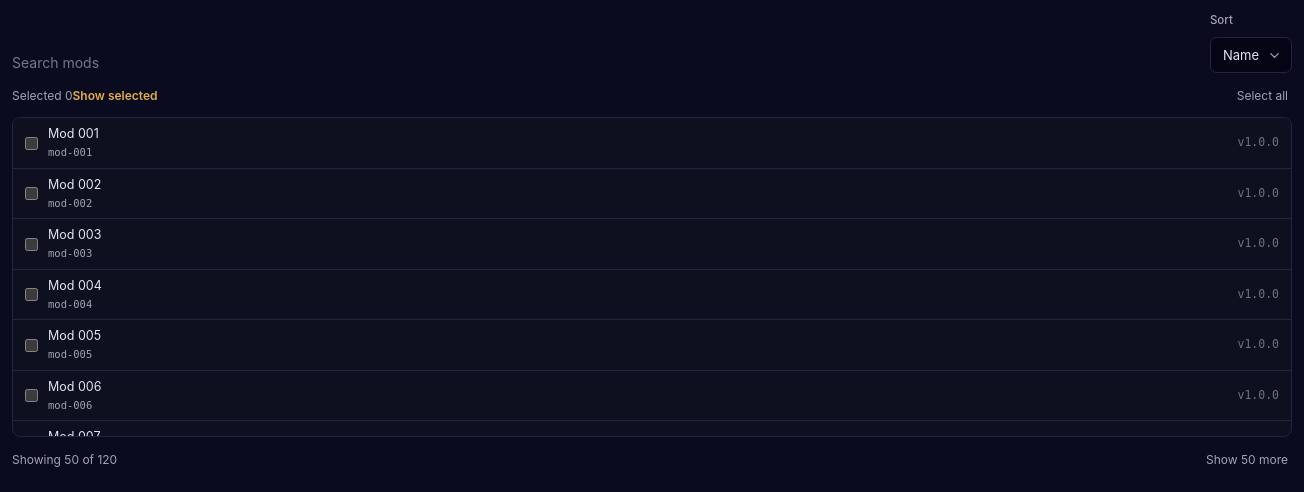
<ModMultiSelect> windowing › changing the search resets paging back to the first page
Expand to the second page first.
Click the button "Show 50 more" at (1247, 460), box x1=1202 y1=449 x2=1292 y2=471
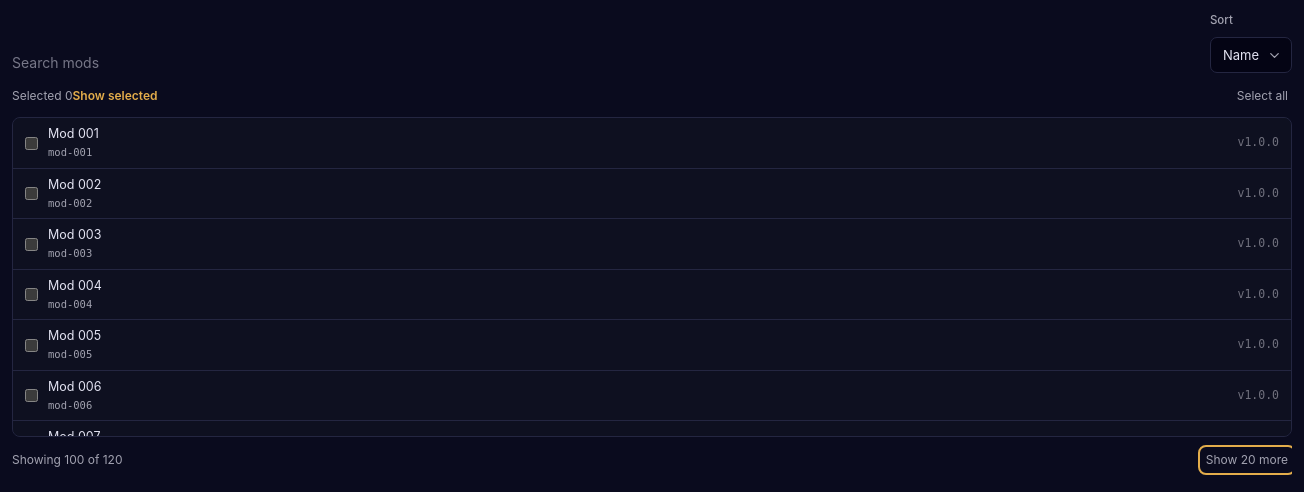
A search narrows to 99 matches AND snaps the page back to the first 50.
Type "Mod 0" into the field labelled "Search mods" at (606, 63), box x1=12 y1=52 x2=1200 y2=73
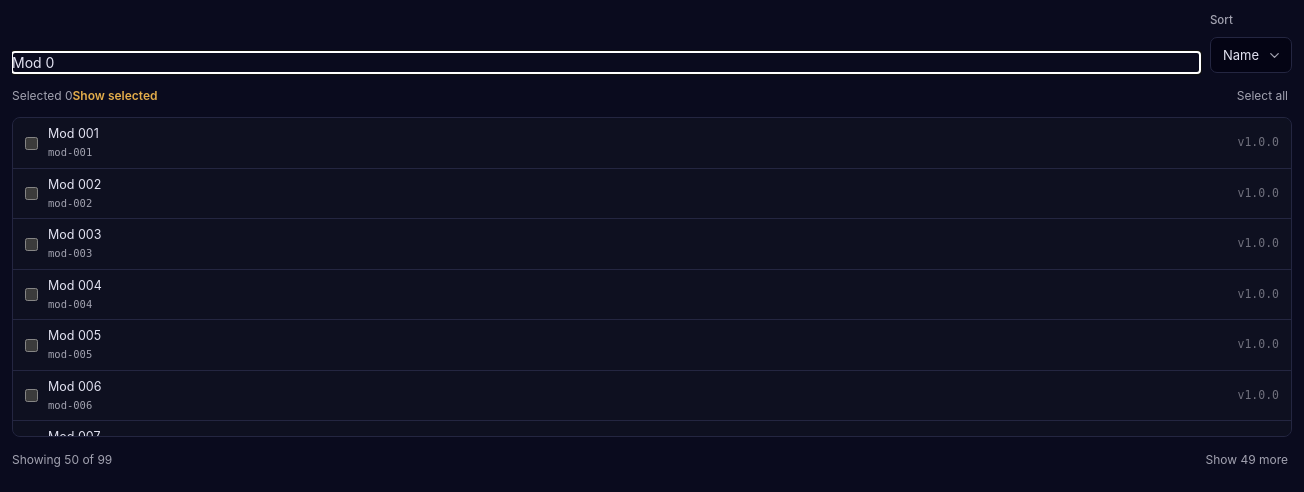
Expected: the text "Showing 50 of 99" is shown, x1=12 y1=451 x2=112 y2=469
